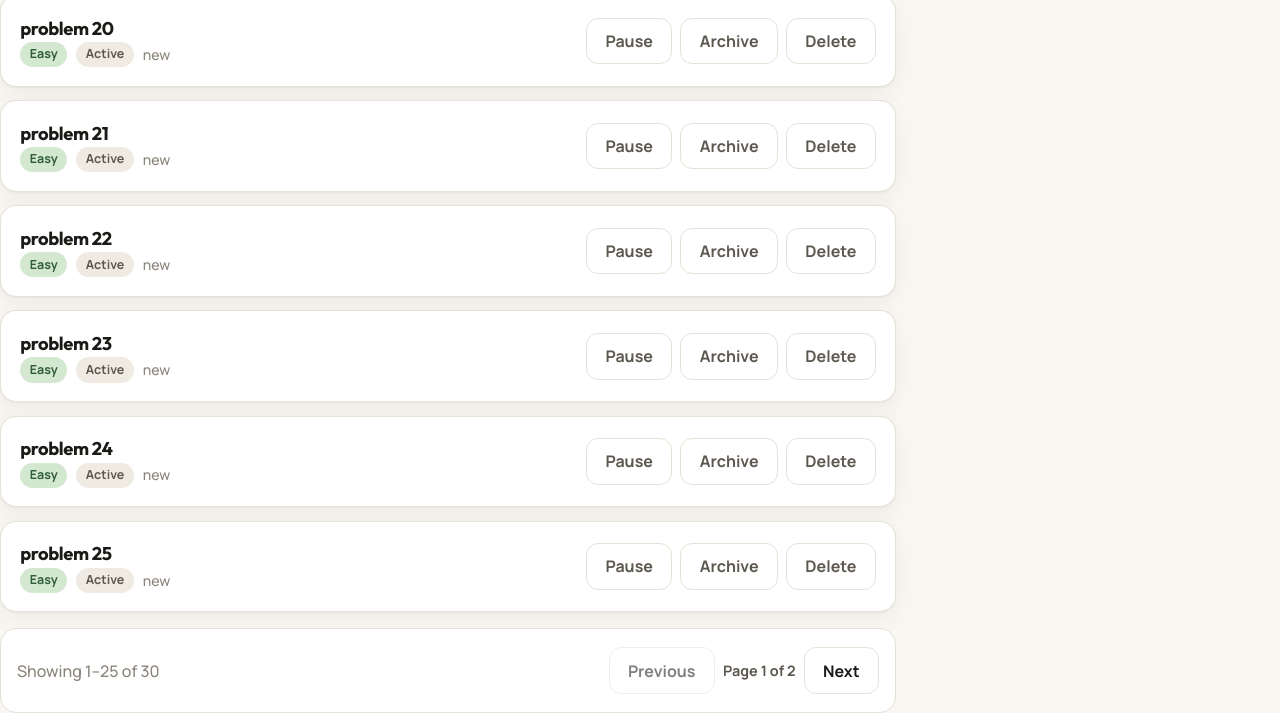
Test: MyList › paginates long problem lists
(page scrolled)
Expected: the text "problem 26" is not shown
Expected: the text "Page 1 of 2" is shown, left=723, top=660, right=796, bottom=681
Click the button "Next" at coordinates (841, 671), box left=804, top=647, right=879, bottom=694
(page scrolled)
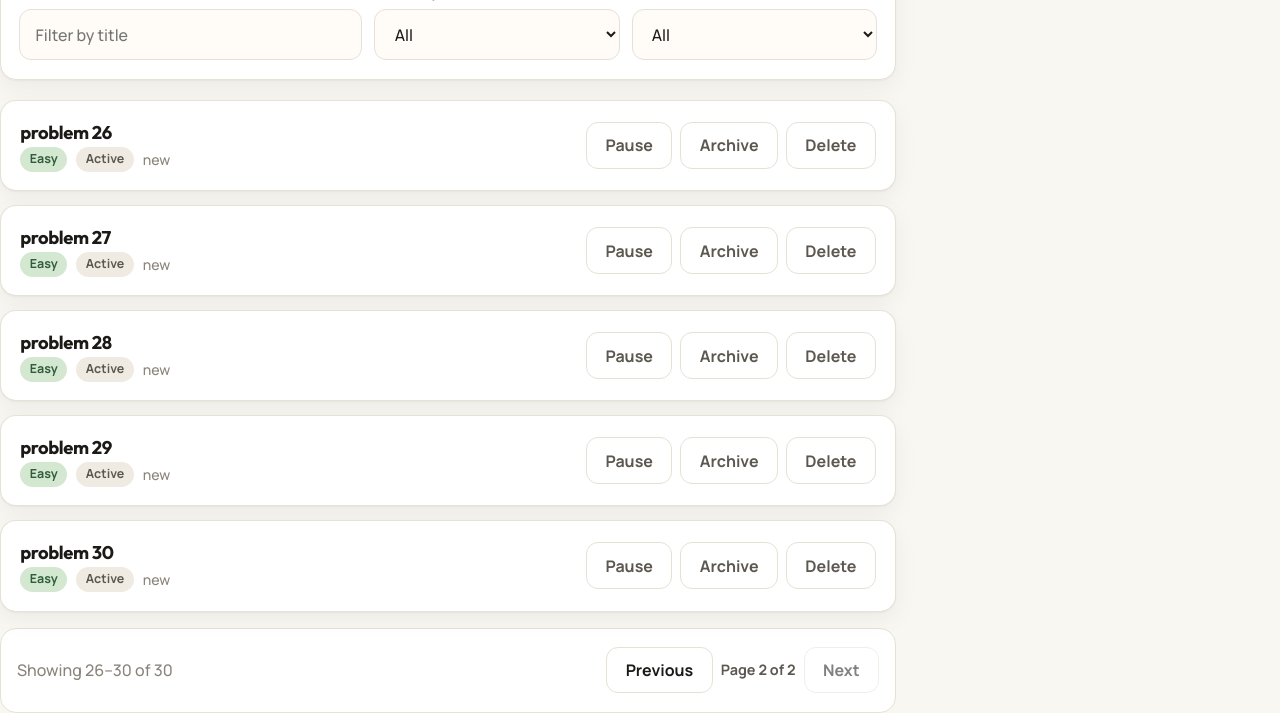
Result: the text "problem 26" is shown at left=20, top=121, right=112, bottom=144
